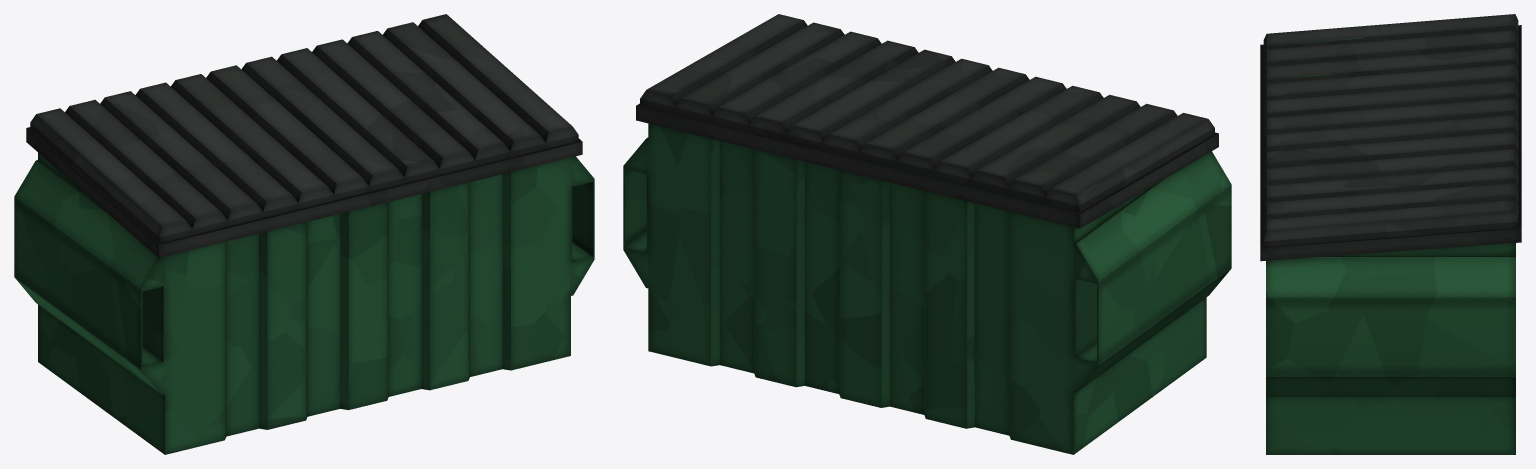
Rendered from CONTENEDOR.fbx.
The picture shows the model from 3 angles, left to right: view 1: azimuth 30°, elevation 25°; view 2: azimuth 150°, elevation 25°; view 3: azimuth 270°, elevation 25°; orthographic projection. The views are drawn at different scales.
Visible parts, largest first — view 1: CONTENEDOR_Baked; view 2: CONTENEDOR_Baked; view 3: CONTENEDOR_Baked.
Part boxes in pixels (x1,y1,x2,y2): CONTENEDOR_Baked: [14, 14, 594, 454]; CONTENEDOR_Baked: [623, 14, 1231, 454]; CONTENEDOR_Baked: [1260, 14, 1521, 454].
Size of the model in its own units: 412 by 216 by 209.
1 material, 1 textured.
